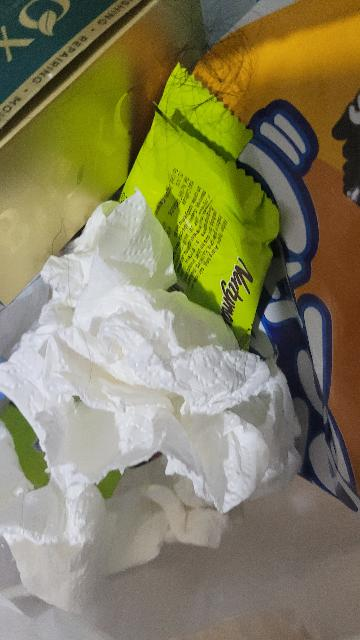Kagit: (16, 193, 287, 583)
Plastik: (139, 58, 275, 338)
